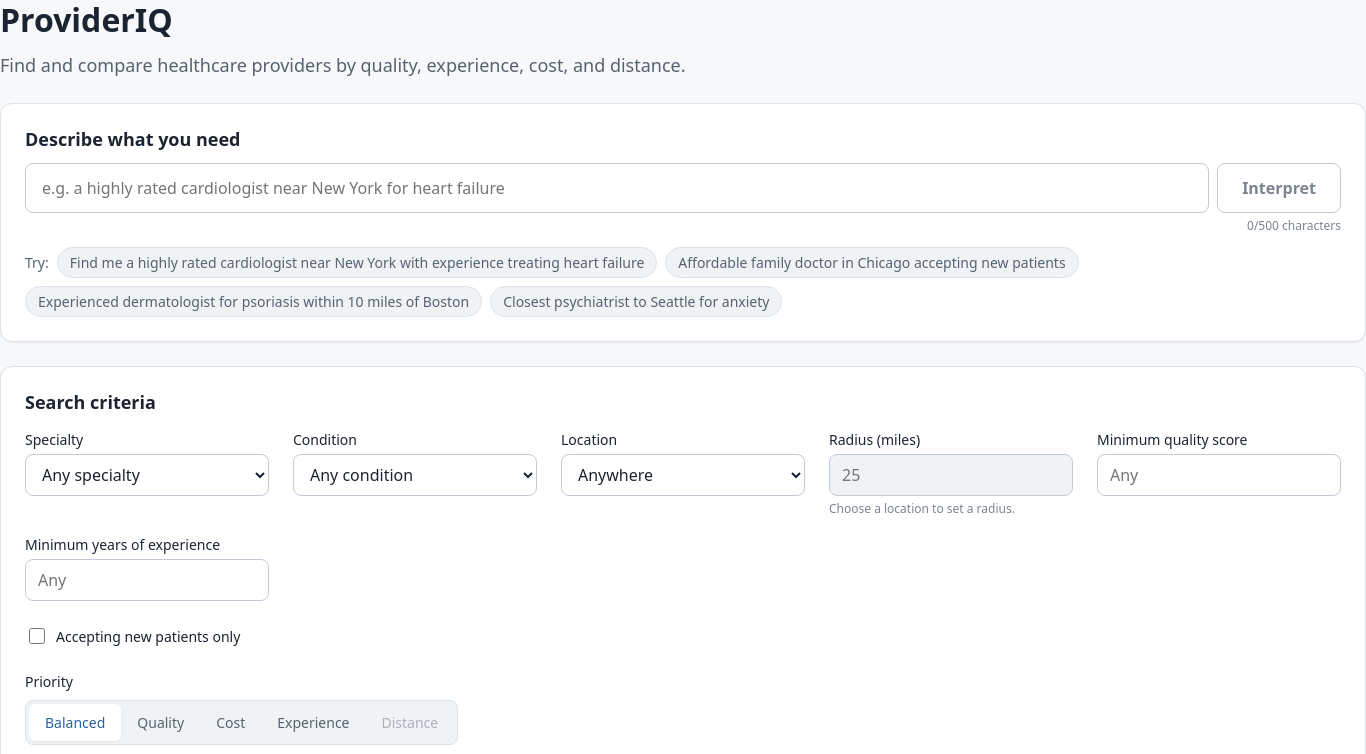
Scenario: SearchPage › Interpret › shows an inline error when parsing fails, and the editor still works
Step 1. Type "cardiologist" into the field named "Describe the provider you're looking for" → [617, 188], box [25,162,1209,212]
Then press Enter
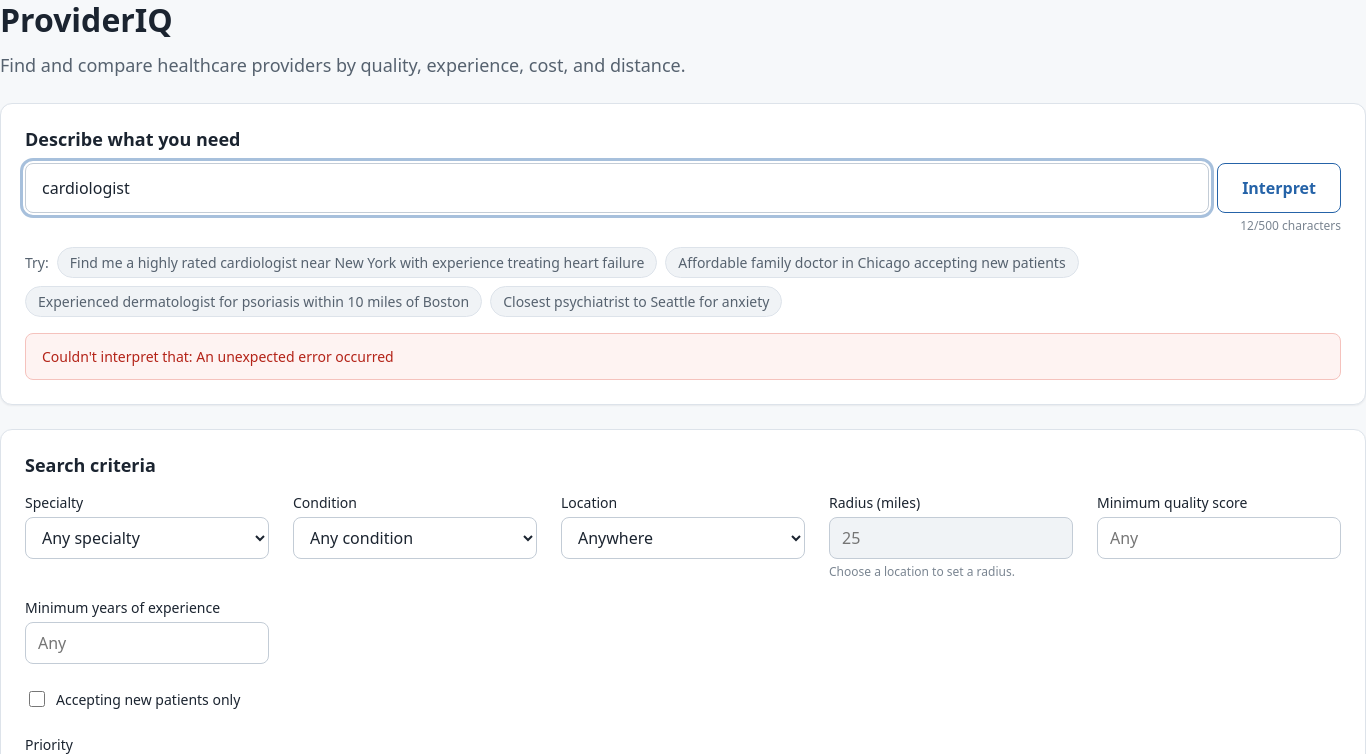
Result: the message shows "An unexpected error occurred" at [196,346,394,366]
Result: the button "Interpret" is enabled at [1217,162,1341,212]
Step 2. Select "Cardiology (162)" in the dropdown labelled "Specialty" → [147, 538], box [25,517,269,559]
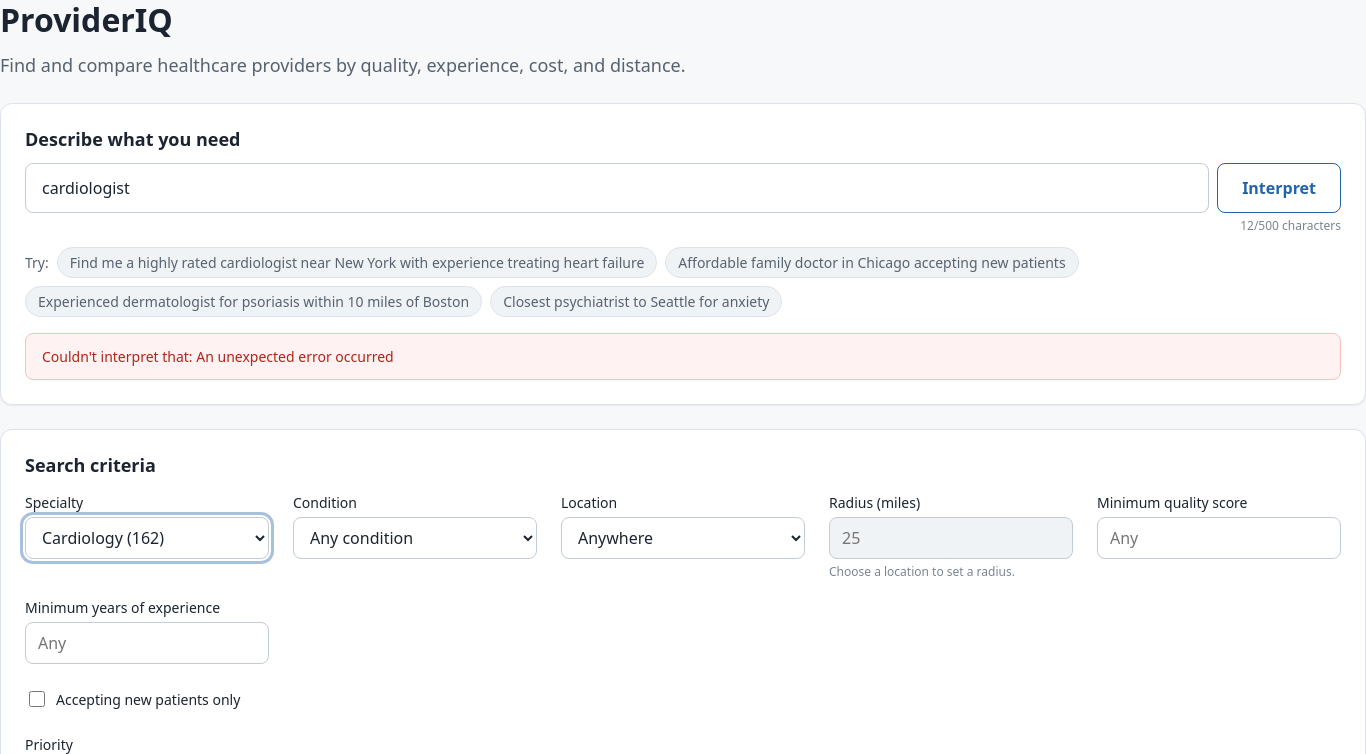
Step 3. Select "Chicago, IL" in the dropdown labelled "Location" → [683, 538], box [561,517,805,559]
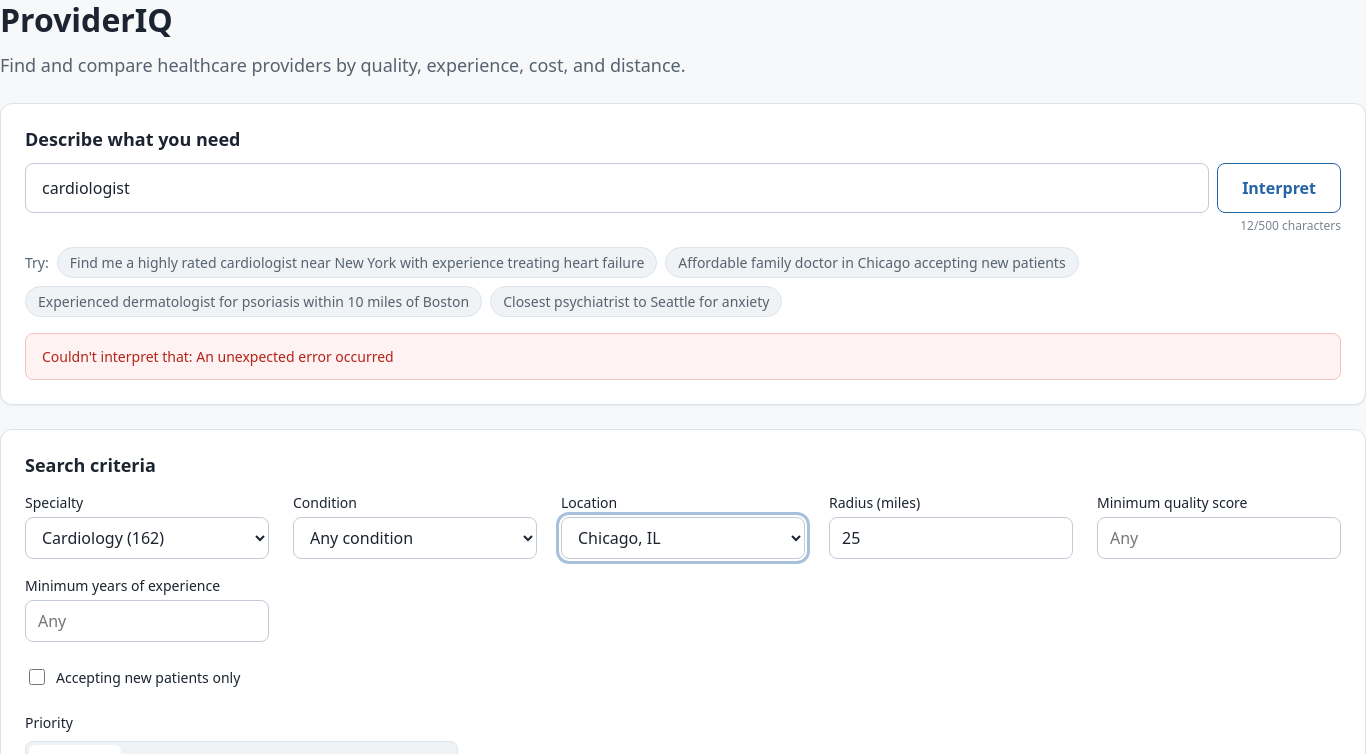
Result: the number field labelled "Radius (miles)" is enabled at [829,517,1073,559]
